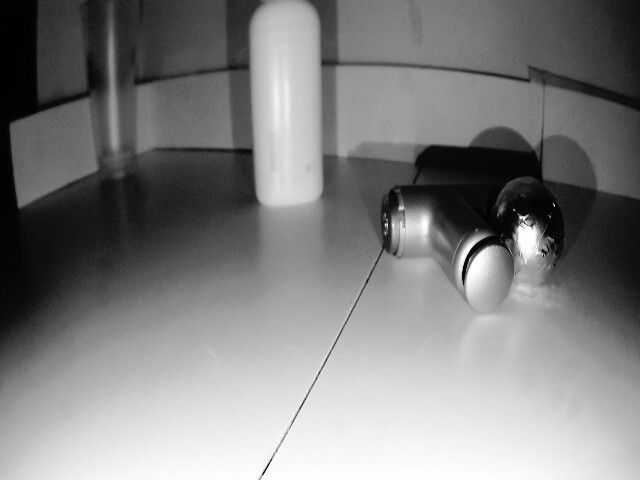black: (500, 175, 564, 282)
